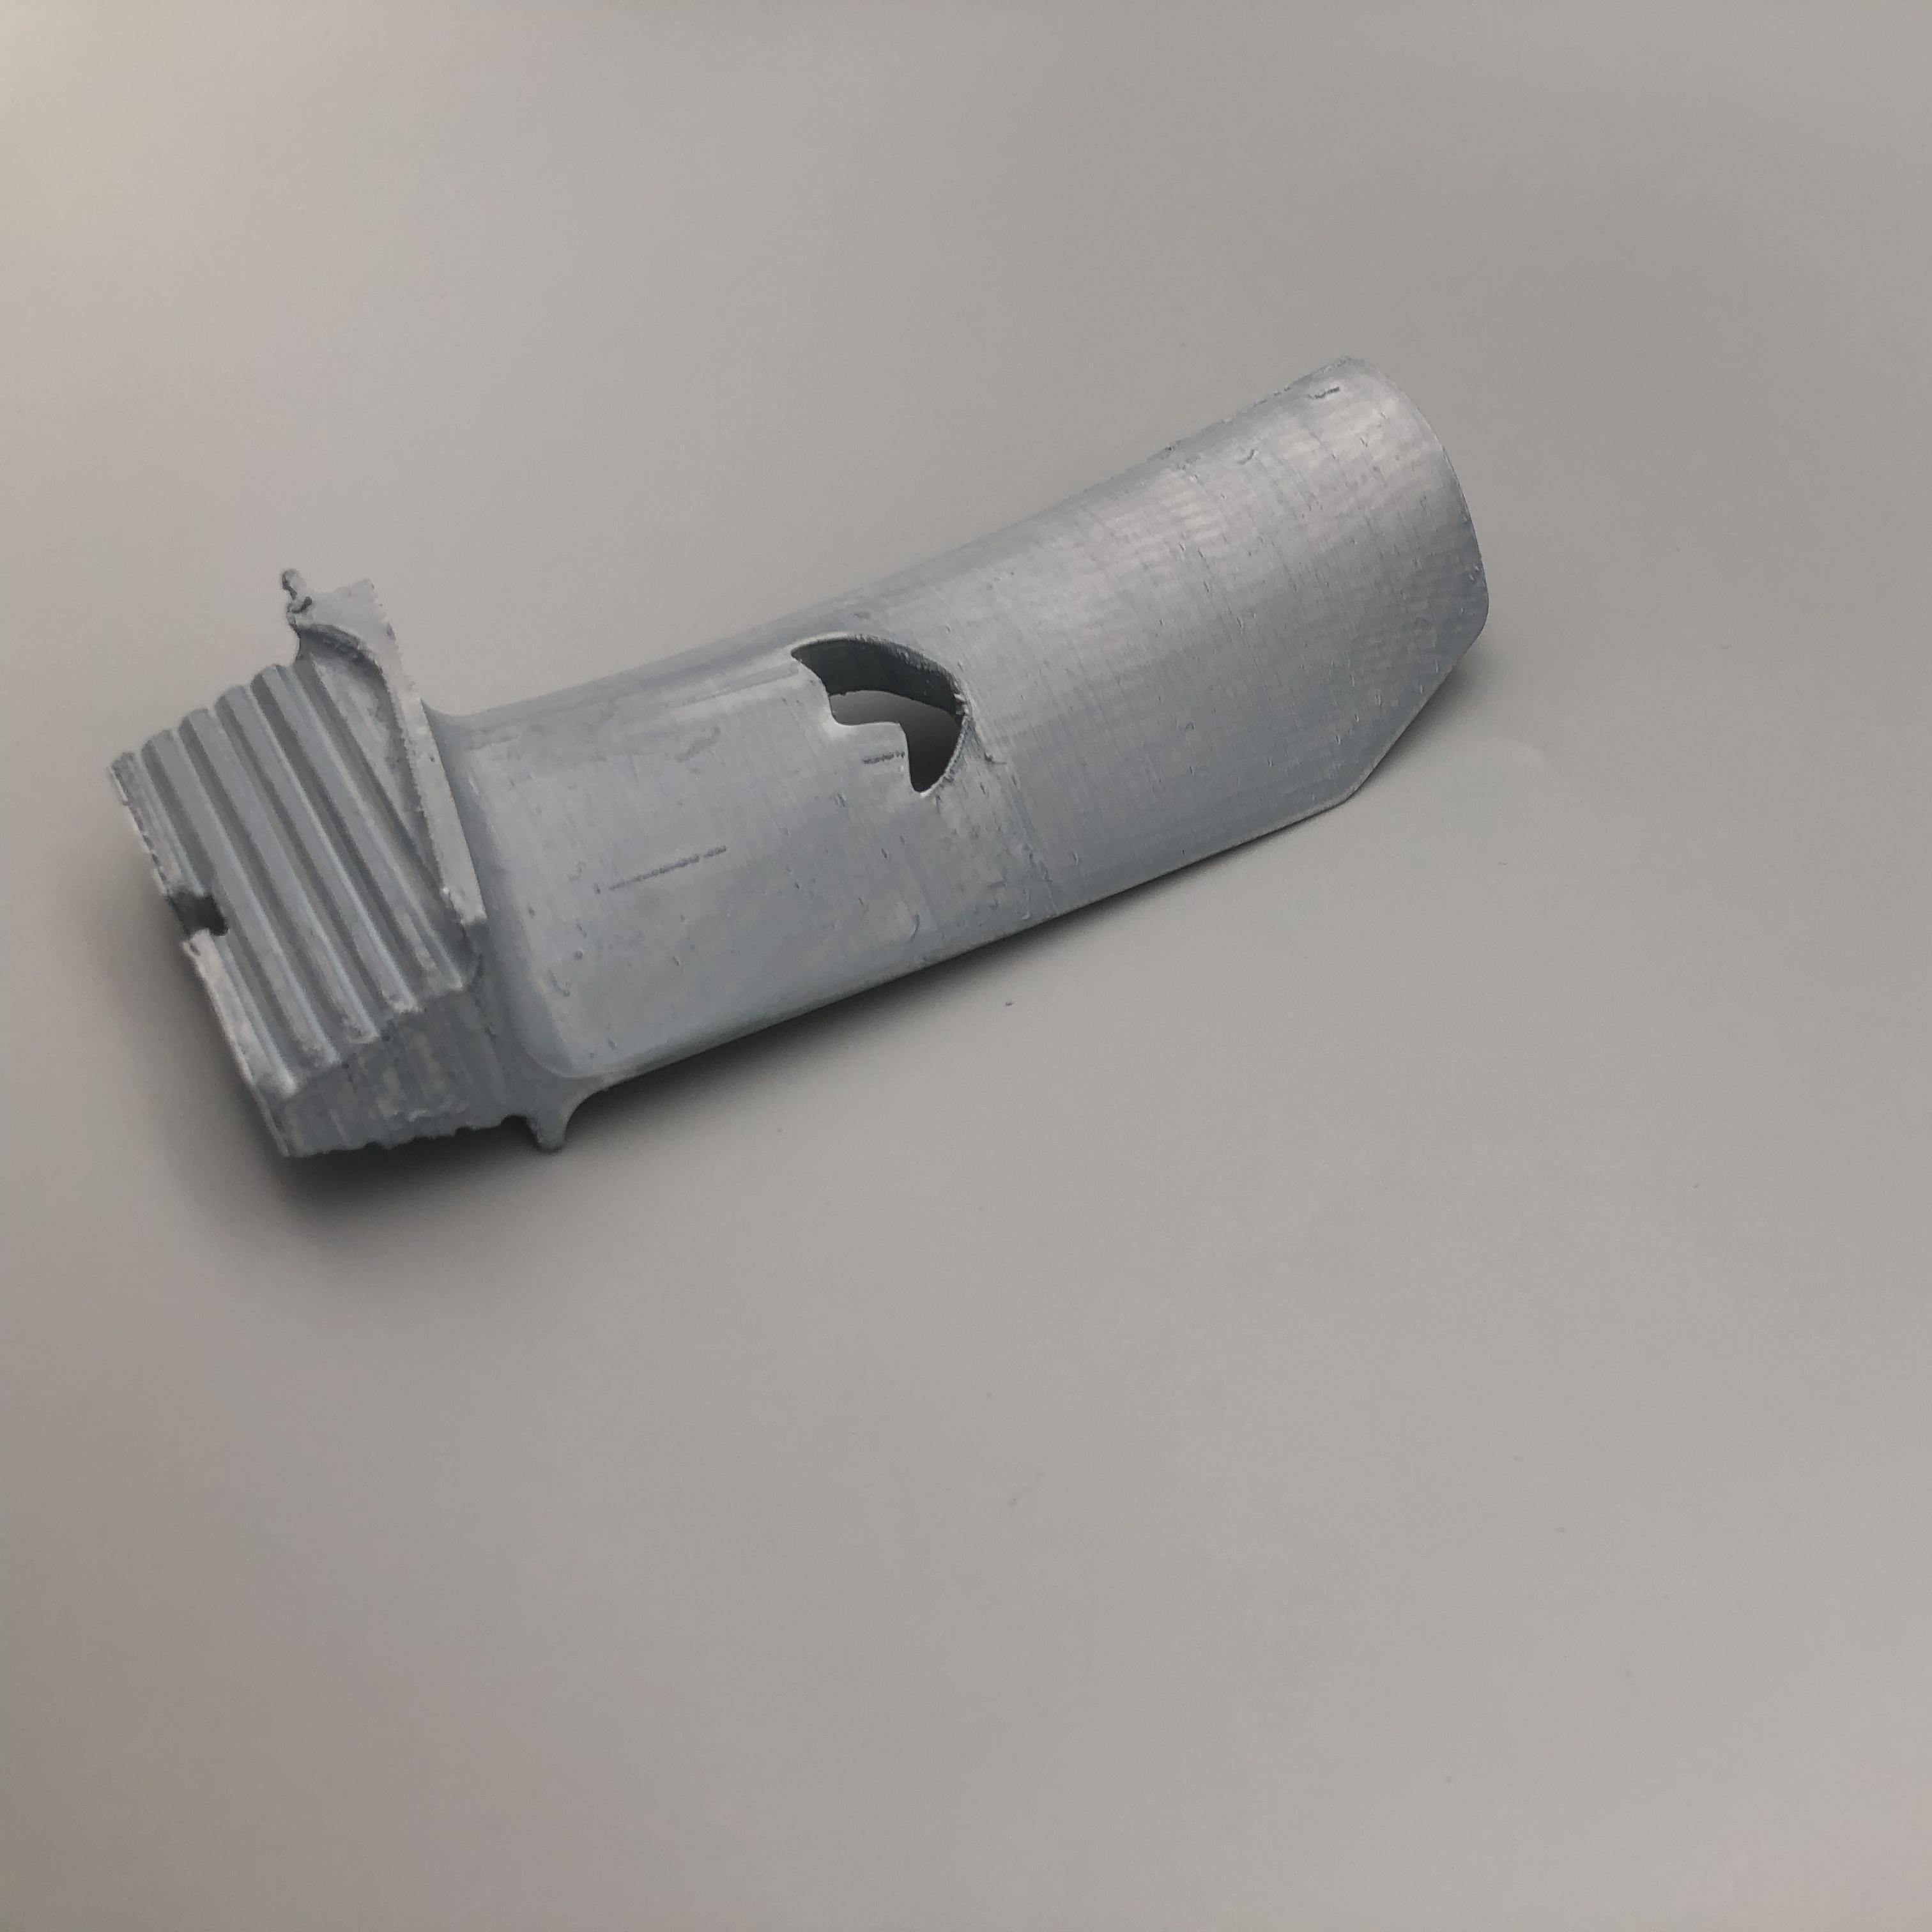breakdown: (780, 628, 1000, 803)
